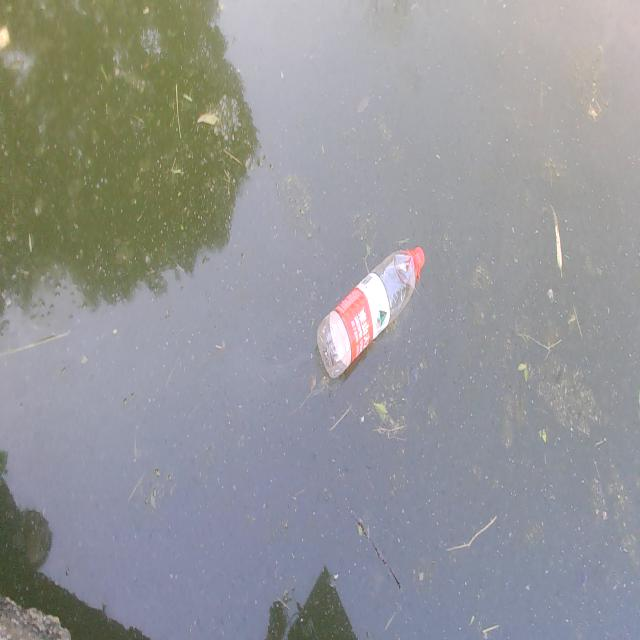bottle: (302, 240, 432, 386)
